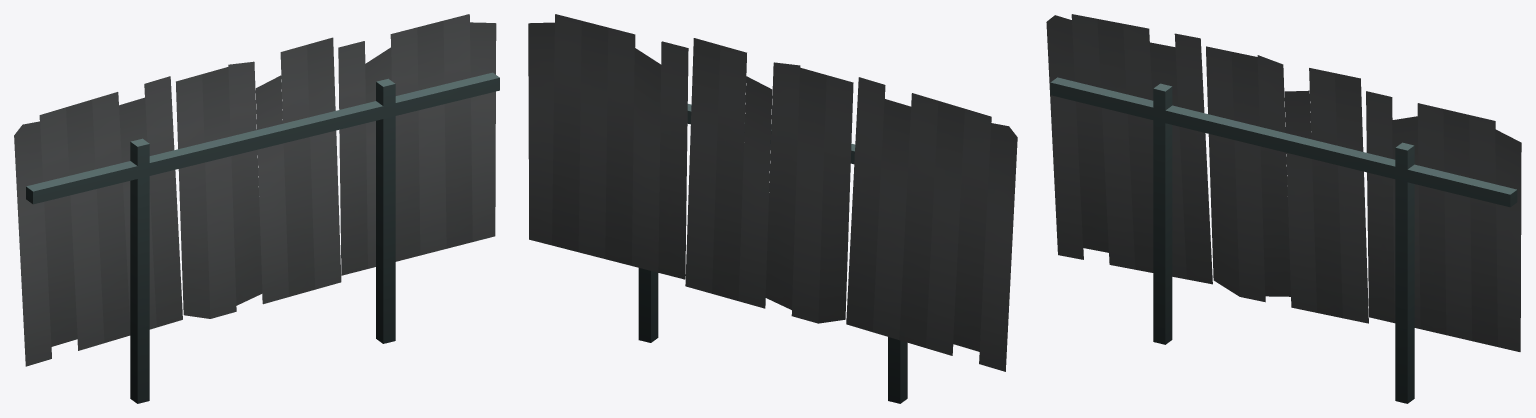
The model's file is Metal_Fence_1B.fbx.
3 views of the same model, side by side, from view 1: azimuth 30°, elevation 25°; view 2: azimuth 150°, elevation 25°; view 3: azimuth 330°, elevation 25° (orthographic). The views are drawn at different scales.
Visible parts, largest first — view 1: Metal_Fence_1B; view 2: Metal_Fence_1B; view 3: Metal_Fence_1B.
Boxes of the visible parts, x1,y1,x2,y2 form: Metal_Fence_1B: [14, 14, 499, 403]; Metal_Fence_1B: [528, 14, 1017, 403]; Metal_Fence_1B: [1046, 14, 1521, 403].
Size of the model in its own units: 392 by 243 by 10.86.
